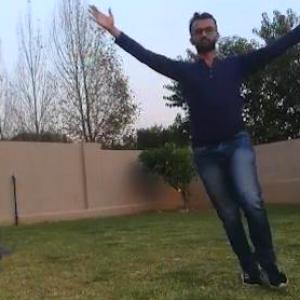takeoff: (97, 3, 299, 279)
